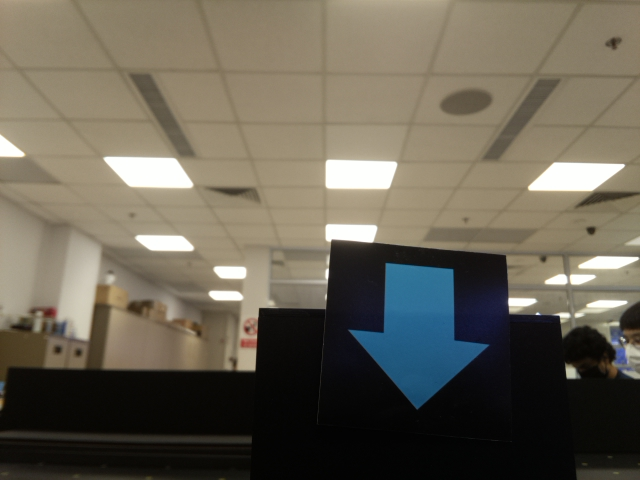down: (351, 254, 490, 413)
